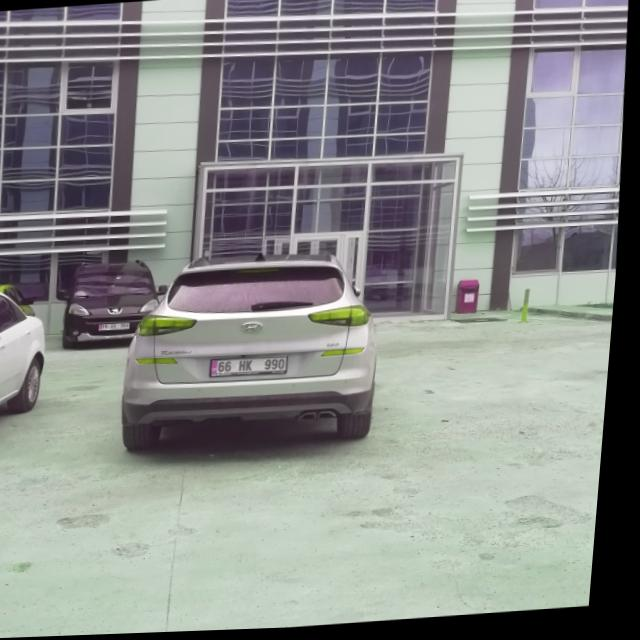license_plate: (217, 357, 294, 378)
